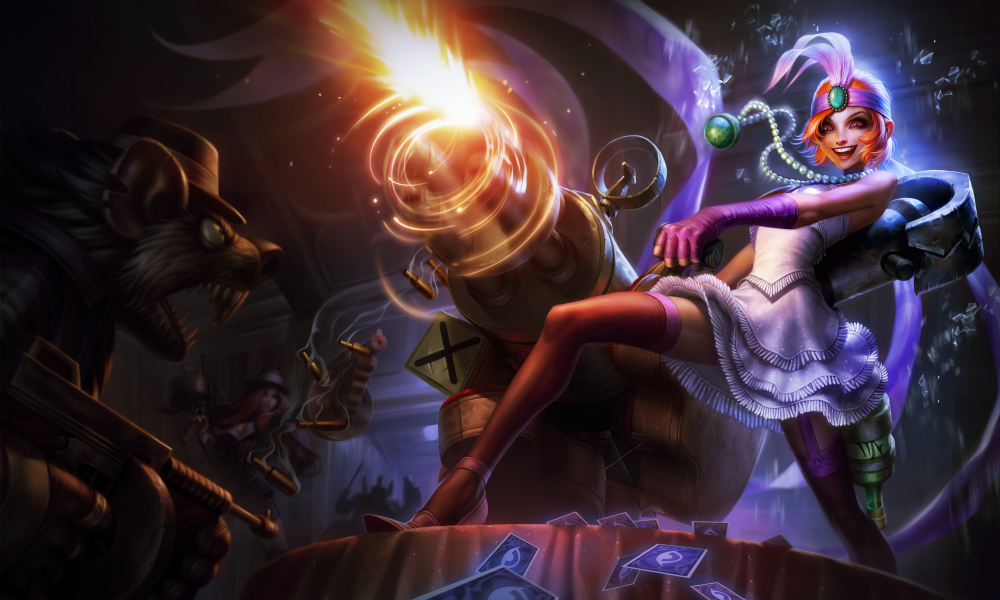face: (750, 23, 923, 199), (235, 360, 302, 431)
